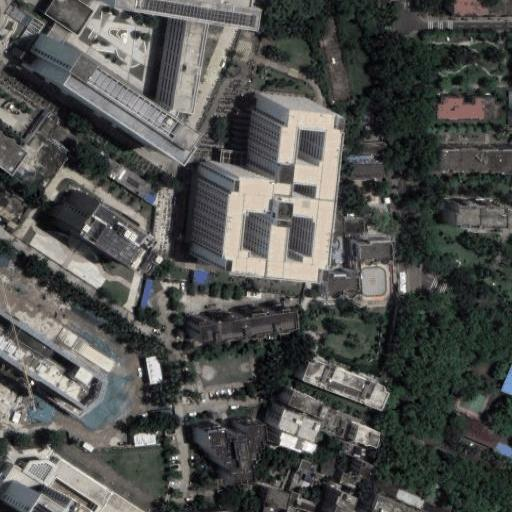building: (193, 95, 311, 270), (26, 33, 165, 145), (15, 220, 109, 297), (0, 308, 80, 394), (22, 458, 144, 512), (50, 188, 133, 262), (12, 111, 70, 196), (323, 241, 395, 306), (302, 359, 389, 412), (133, 1, 171, 98), (193, 418, 254, 477), (313, 10, 351, 101), (186, 300, 286, 333), (102, 160, 159, 204), (44, 0, 93, 45), (433, 143, 512, 166), (453, 414, 502, 450), (30, 484, 91, 512), (437, 95, 498, 119), (265, 403, 309, 435), (379, 481, 425, 510), (0, 187, 31, 229), (289, 391, 329, 419), (447, 201, 498, 222), (455, 0, 512, 16), (323, 411, 353, 439), (270, 430, 309, 451), (320, 483, 345, 512), (354, 426, 382, 449), (399, 263, 421, 292), (286, 492, 316, 512), (340, 441, 368, 460), (351, 163, 384, 179), (498, 359, 512, 396), (265, 489, 289, 510), (147, 355, 162, 385), (140, 280, 153, 309), (320, 454, 336, 476), (361, 143, 389, 154), (365, 203, 388, 216), (494, 442, 512, 458), (345, 217, 364, 232), (134, 432, 155, 445), (340, 474, 357, 488), (359, 464, 374, 479), (291, 474, 304, 490), (297, 460, 311, 474), (194, 271, 209, 284), (335, 217, 346, 233), (368, 224, 385, 234), (430, 504, 450, 512), (507, 92, 512, 124), (261, 504, 276, 512), (305, 471, 315, 483)
